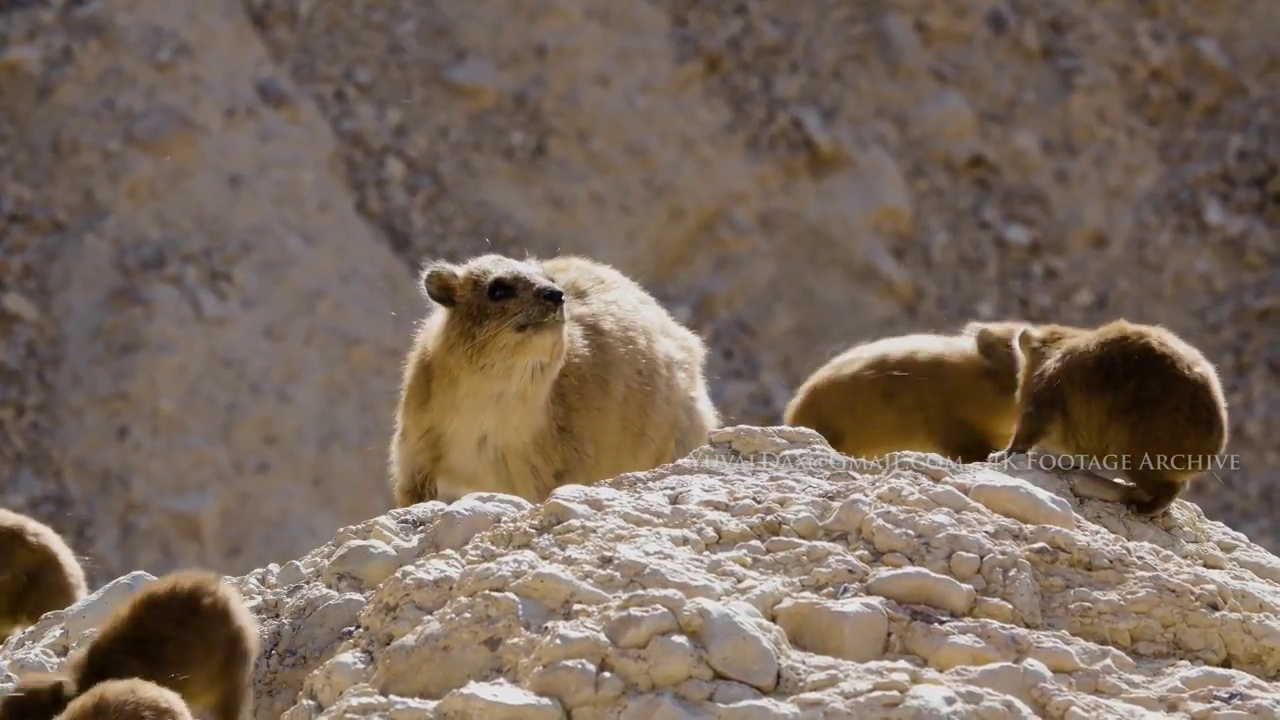Rock Hyrex: (394, 259, 721, 509), (988, 321, 1227, 528), (779, 328, 1043, 471), (73, 568, 262, 720), (1, 495, 88, 645)
